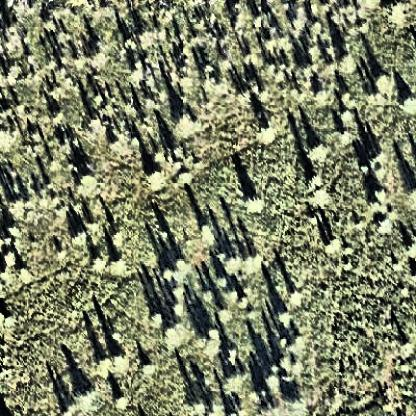tree-top: (164, 315, 196, 347), (74, 381, 103, 409), (380, 1, 412, 26), (222, 368, 251, 395), (220, 251, 248, 275), (166, 254, 192, 279), (75, 169, 100, 194), (256, 118, 278, 143), (274, 355, 299, 377), (307, 31, 328, 57), (285, 391, 308, 414), (201, 321, 224, 344), (364, 144, 387, 167), (243, 189, 267, 211), (372, 67, 394, 91), (337, 52, 359, 76), (173, 105, 195, 127), (306, 140, 329, 161), (368, 185, 389, 207), (273, 305, 294, 326), (312, 83, 333, 104), (263, 368, 283, 389), (306, 16, 326, 37), (242, 251, 263, 271), (5, 248, 23, 271), (144, 162, 164, 182), (187, 396, 207, 416), (111, 253, 130, 274), (70, 224, 90, 243), (218, 306, 238, 325), (92, 352, 111, 372), (399, 89, 416, 111), (109, 348, 129, 366), (304, 170, 322, 190), (338, 109, 356, 128), (335, 124, 353, 143), (171, 283, 189, 302), (4, 221, 21, 240), (169, 143, 187, 160), (323, 235, 340, 252), (51, 107, 68, 124), (142, 357, 158, 375), (404, 178, 416, 202), (198, 221, 214, 239), (401, 333, 416, 352), (307, 1, 327, 14), (112, 390, 128, 406), (16, 264, 32, 280), (1, 308, 15, 326), (228, 1, 246, 15), (109, 135, 124, 151), (404, 237, 416, 253), (202, 62, 216, 75)
